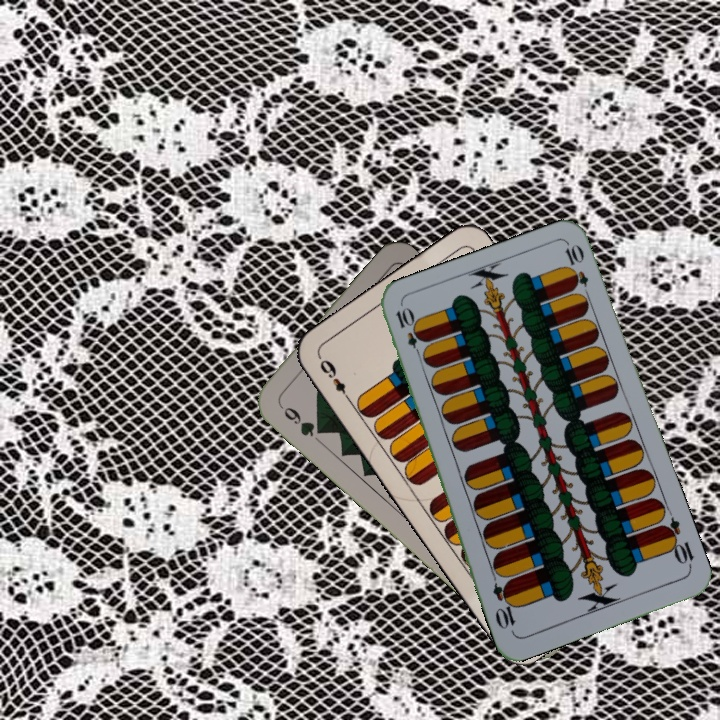E10: (657, 514, 697, 571), (391, 303, 426, 361)
E9: (315, 353, 354, 405)
G9: (274, 399, 328, 439)
